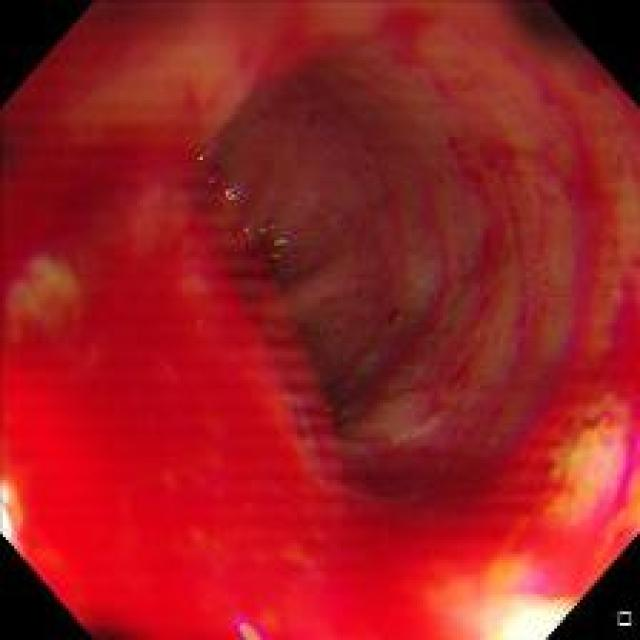blur: (60, 32, 615, 521)
bubbles: (324, 400, 339, 415), (239, 224, 252, 238)
color misalignment: (215, 230, 342, 484), (565, 421, 632, 525), (10, 254, 90, 332), (491, 555, 569, 632), (258, 218, 298, 266), (204, 171, 245, 205), (235, 611, 266, 635), (191, 139, 218, 165)
saturation: (486, 592, 568, 634)
specularity: (0, 476, 38, 560)
